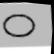no answer: (0, 7, 39, 44)
